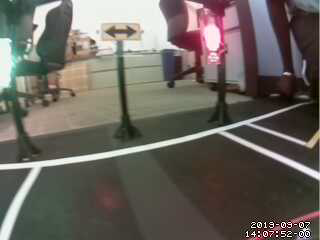Left_Right_sign: (100, 22, 142, 38)
Traffic_light_green: (1, 38, 10, 89)
Traffic_light_red: (201, 23, 222, 63)
